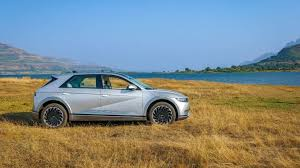Honda Ioniq: (24, 69, 195, 133)
